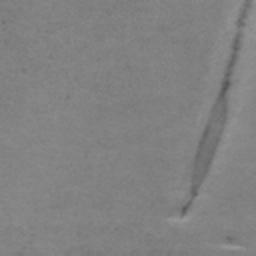Finishing roll printing: (180, 0, 252, 220)
